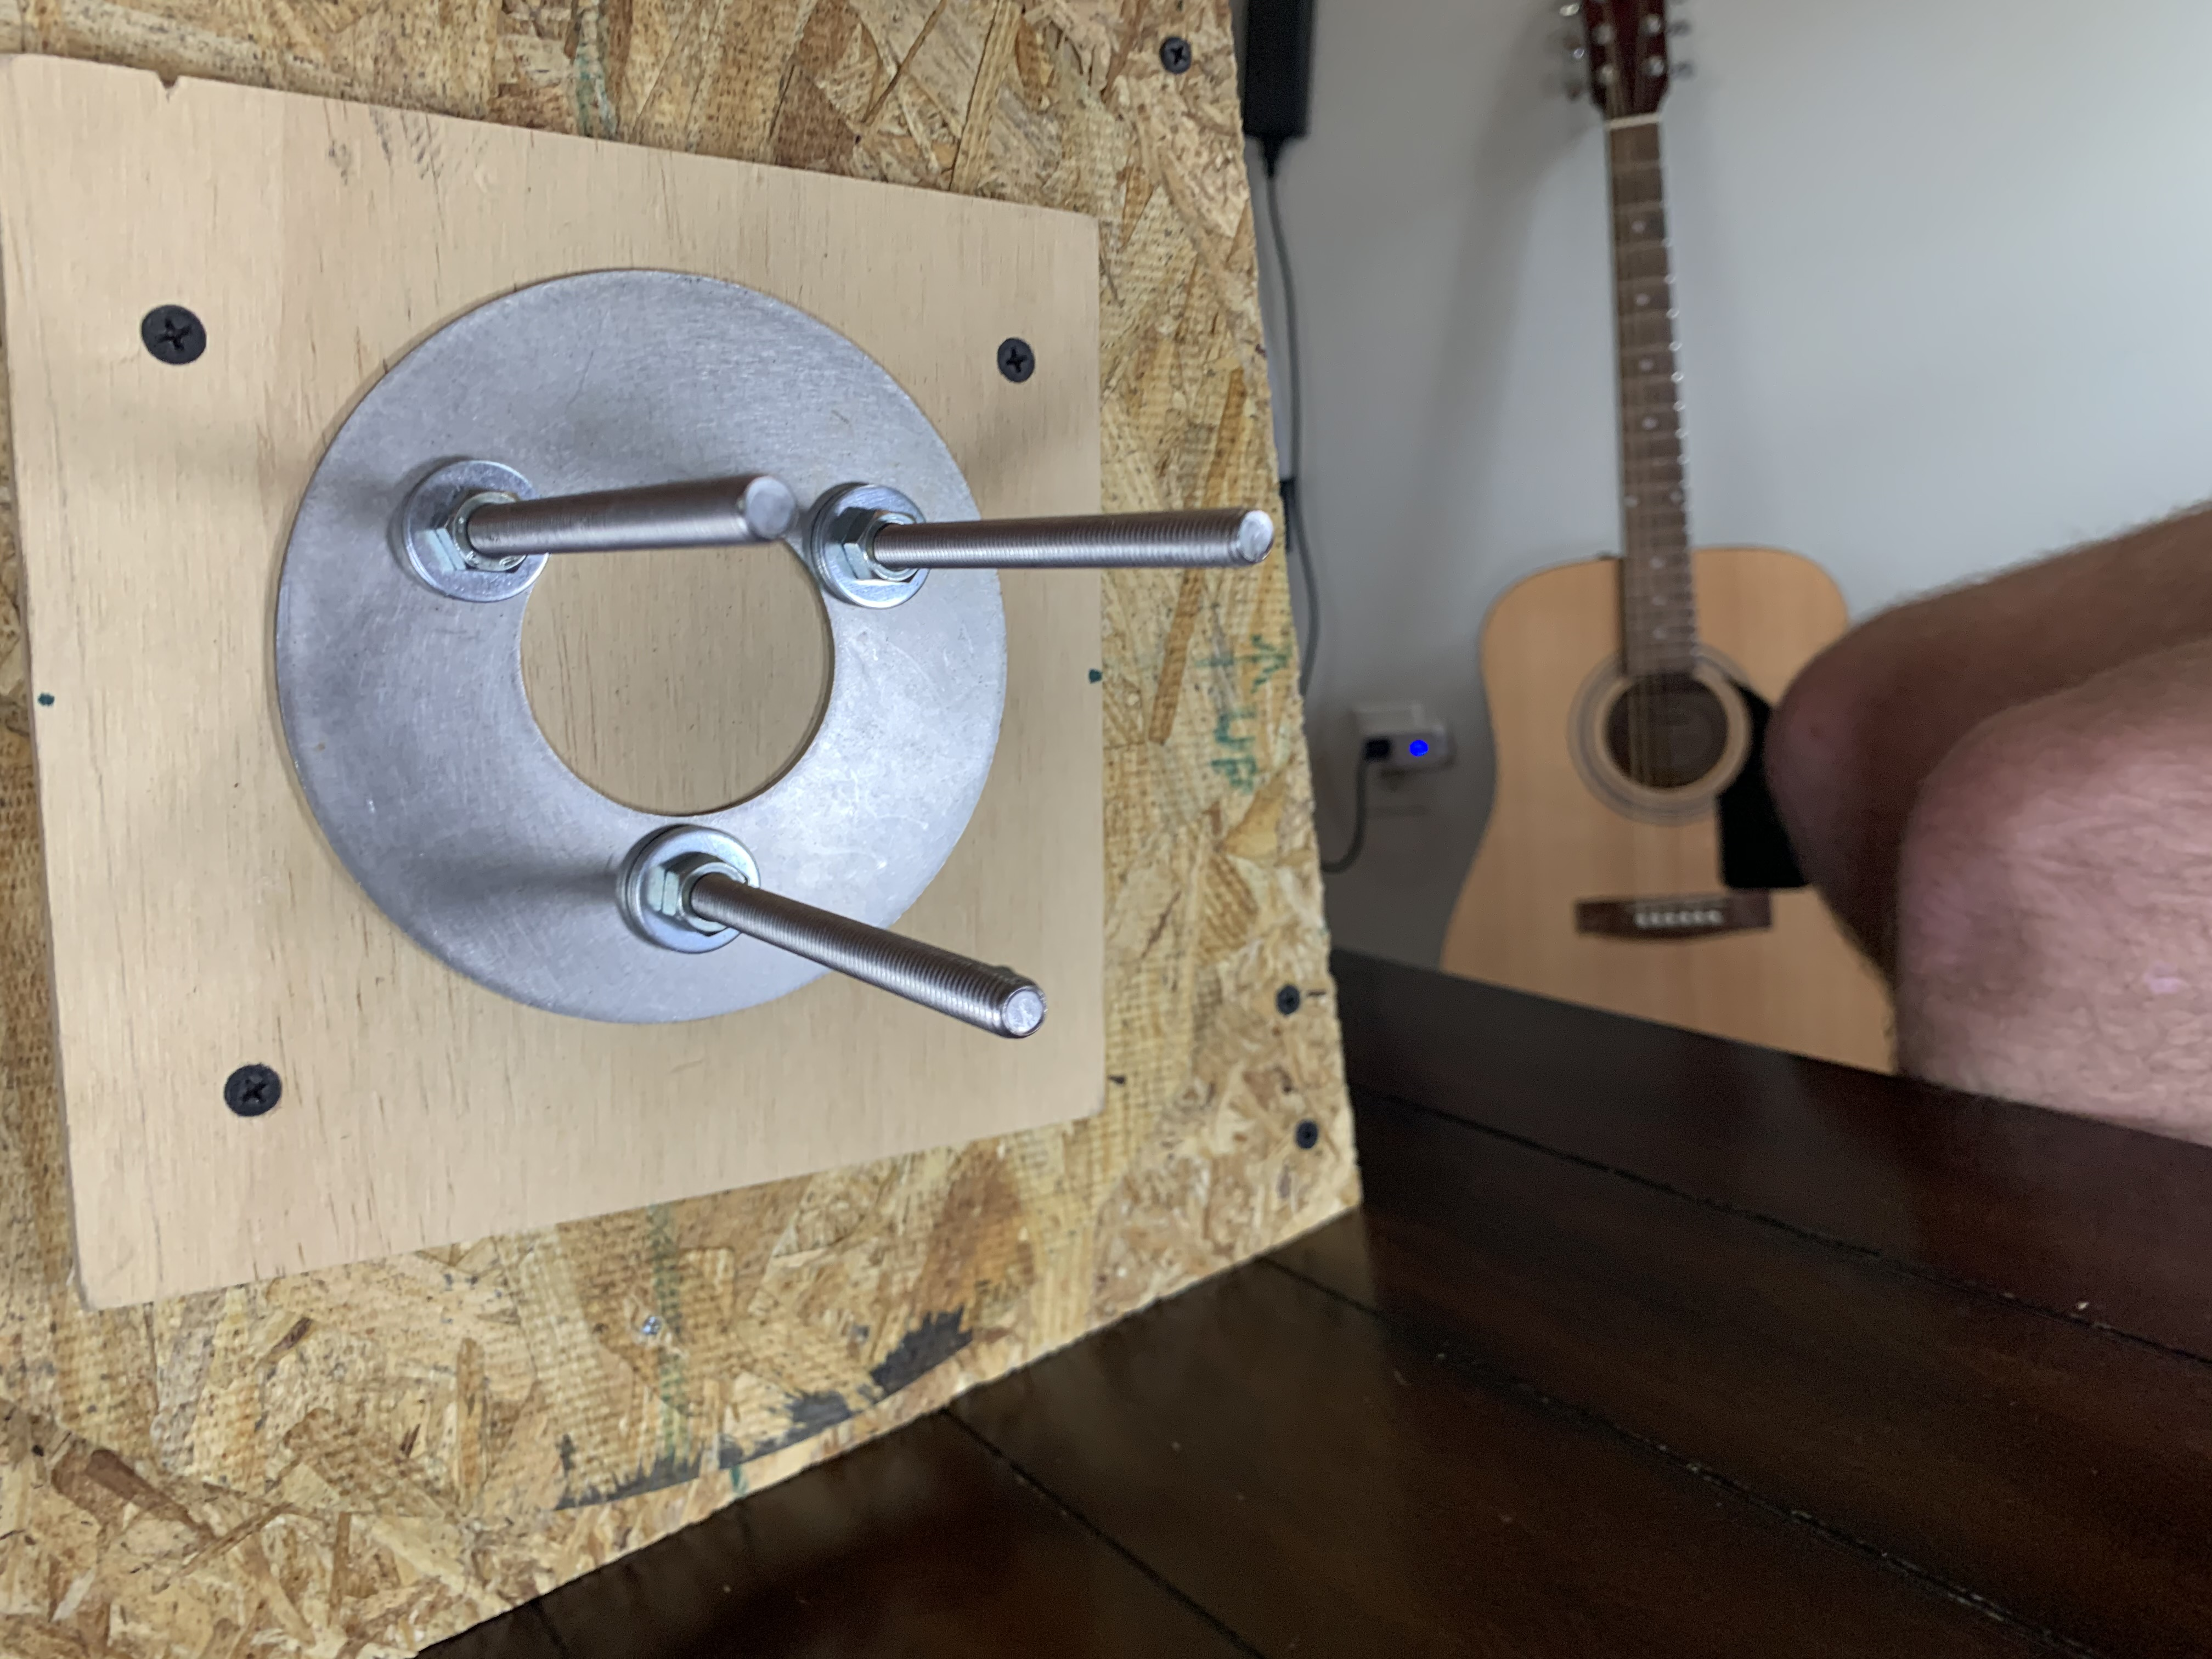bolt: (394, 457, 554, 608), (617, 828, 763, 955), (812, 477, 928, 613)
